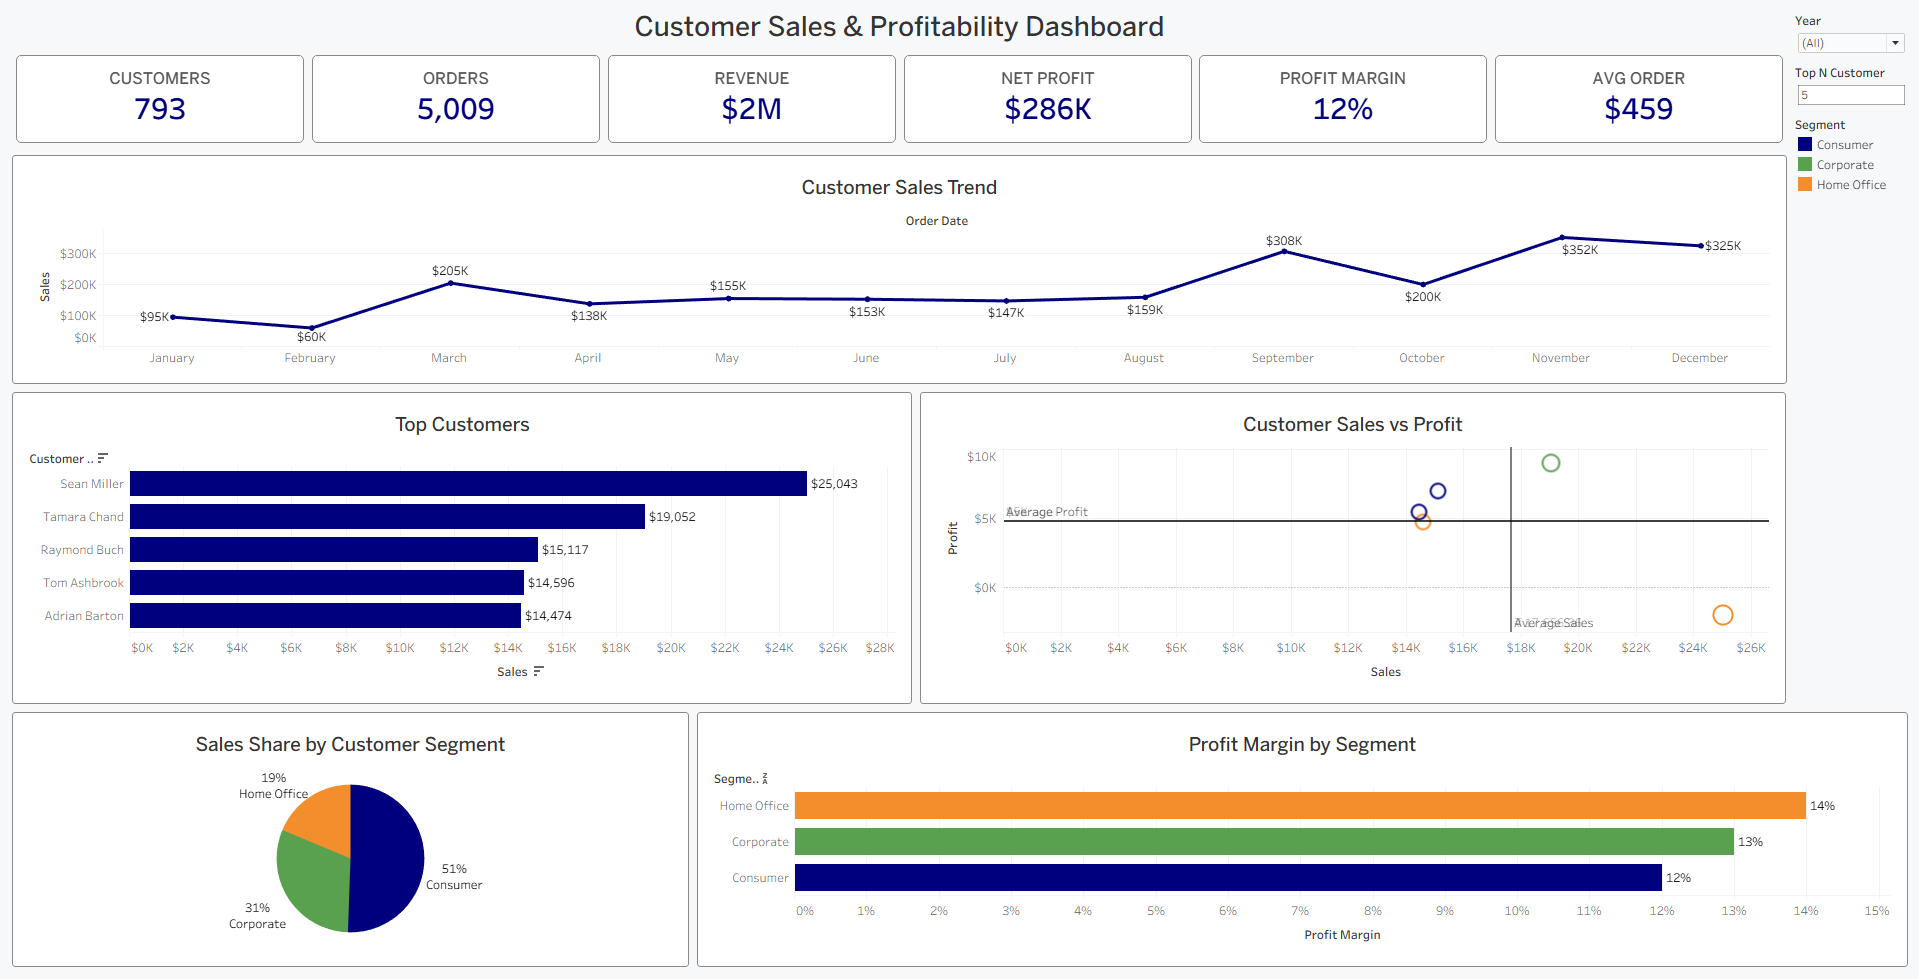

What the dashboard file says about the page in this screenshot:
{"tool":"tableau","page":{"name":"Customer Sales Analysis","canvas":[1000,1000],"units":"permille","ordinal":0},"visuals":[{"type":"text","box":[4.2,8.9,927.7,40.1]},{"type":"filter","title":"Customer Sales Trend","param":"[federated.0p4kfgt1i09fhi11m8jh40co5ivd].[yr:Order Date:ok]","box":[931.9,8.9,63.9,58]},{"type":"worksheet","title":"Total Customers","mark":"Text","box":[6.3,53.6,153.9,97.1]},{"type":"worksheet","title":"Total Orders","mark":"Text","box":[160.2,53.6,153.9,97.1]},{"type":"worksheet","title":"Total Sales","mark":"Text","box":[314.1,53.6,153.9,97.1]},{"type":"worksheet","title":"Total Profit","mark":"Text","box":[468,53.6,153.9,97.1]},{"type":"worksheet","title":"Profit Margin","mark":"Text","box":[621.9,53.6,153.9,97.1]},{"type":"worksheet","title":"Avg Orders","mark":"Text","box":[775.8,53.6,153.9,97.1]},{"type":"parameter","param":"[Parameters].[Parameter 1273801397743616]","box":[931.9,67,63.9,58]},{"type":"legend","title":"Customer Order Details","param":"[federated.0p4kfgt1i09fhi11m8jh40co5ivd].[none:Segment:nk]","box":[931.9,125,63.9,96]},{"type":"worksheet","title":"Customer Sales Trend","mark":"Automatic","rows":["Sales"],"cols":["Order Date"],"box":[4.2,154.9,927.7,264.5]},{"type":"worksheet","title":"Top 10 Customers","mark":"Automatic","rows":["Customer Name"],"cols":["Sales"],"box":[4.2,419.4,472.8,303.7]},{"type":"worksheet","title":"Customer Order Details","mark":"Automatic","rows":["Profit"],"cols":["Sales"],"box":[477,419.4,454.9,303.7]},{"type":"worksheet","title":"Customer Segment Distribution","mark":"Pie","box":[4.2,723.1,356.8,268]},{"type":"worksheet","title":"Profit Margin by Segment","mark":"Automatic","rows":["Segment"],"cols":["Calculation_1273801412050946"],"box":[361,723.1,634.8,268]}]}

Visuals, with their boxes on the dashboard's canvas, which has no fixed pixel size, in thousandths of its width and height (x1, y1, x2, y2). These are canvas units, not pixel positions in the 1919x979 screenshot, which may show the page scaled, cropped or inside an application window:
text: bbox=(4, 9, 932, 49)
"Customer Sales Trend" filter: bbox=(932, 9, 996, 67)
"Total Customers" worksheet (Text marks): bbox=(6, 54, 160, 151)
"Total Orders" worksheet (Text marks): bbox=(160, 54, 314, 151)
"Total Sales" worksheet (Text marks): bbox=(314, 54, 468, 151)
"Total Profit" worksheet (Text marks): bbox=(468, 54, 622, 151)
"Profit Margin" worksheet (Text marks): bbox=(622, 54, 776, 151)
"Avg Orders" worksheet (Text marks): bbox=(776, 54, 930, 151)
parameter: bbox=(932, 67, 996, 125)
"Customer Order Details" legend: bbox=(932, 125, 996, 221)
"Customer Sales Trend" worksheet: bbox=(4, 155, 932, 419)
"Top 10 Customers" worksheet: bbox=(4, 419, 477, 723)
"Customer Order Details" worksheet: bbox=(477, 419, 932, 723)
"Customer Segment Distribution" worksheet (Pie marks): bbox=(4, 723, 361, 991)
"Profit Margin by Segment" worksheet: bbox=(361, 723, 996, 991)
